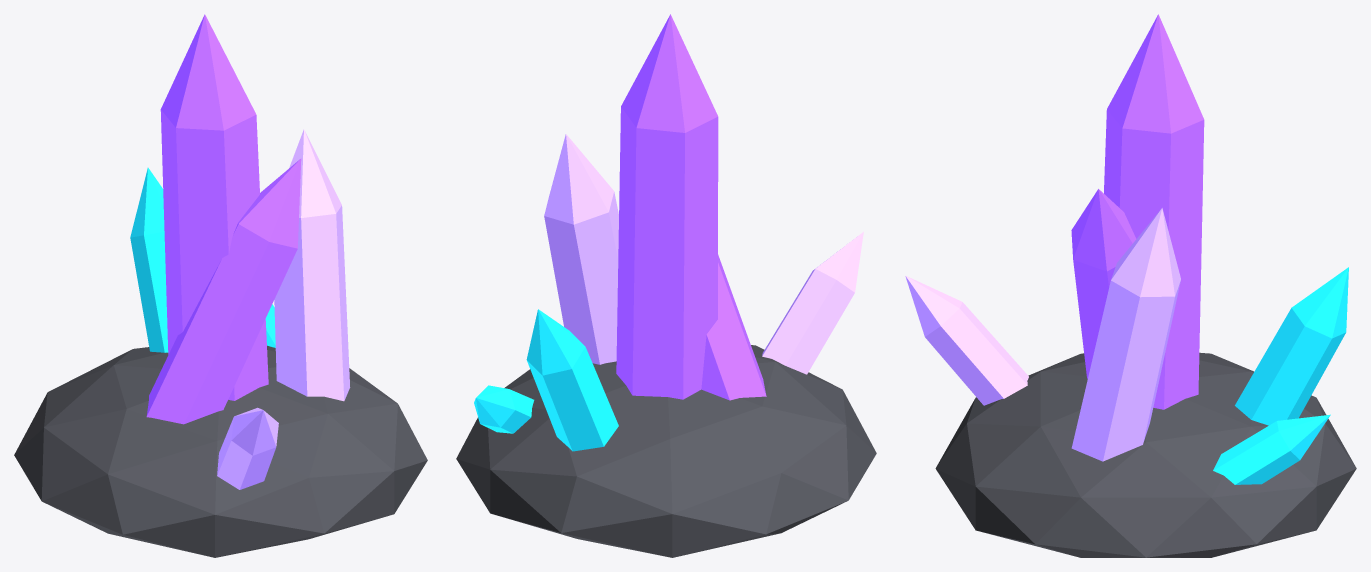
The model's file is Crystal.glb.
3 renders of one model, left to right at view 1: azimuth 30°, elevation 25°; view 2: azimuth 150°, elevation 25°; view 3: azimuth 270°, elevation 25°, orthographic.
Visible parts, largest first — view 1: Crystal; view 2: Crystal; view 3: Crystal.
Part boxes in pixels (x1=…): Crystal: x1=14, y1=14, x2=427, y2=557; Crystal: x1=456, y1=14, x2=876, y2=557; Crystal: x1=905, y1=14, x2=1356, y2=557.
Bounding box in the file's own units: 1.1 × 1.35 × 1.18.
